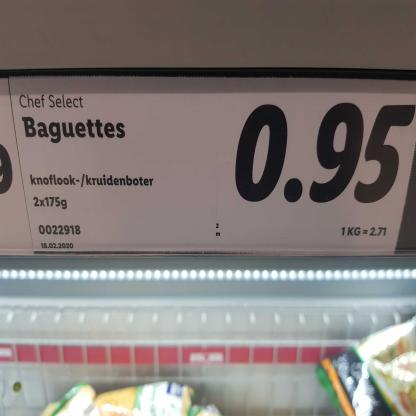prtg: (10, 75, 415, 258)
